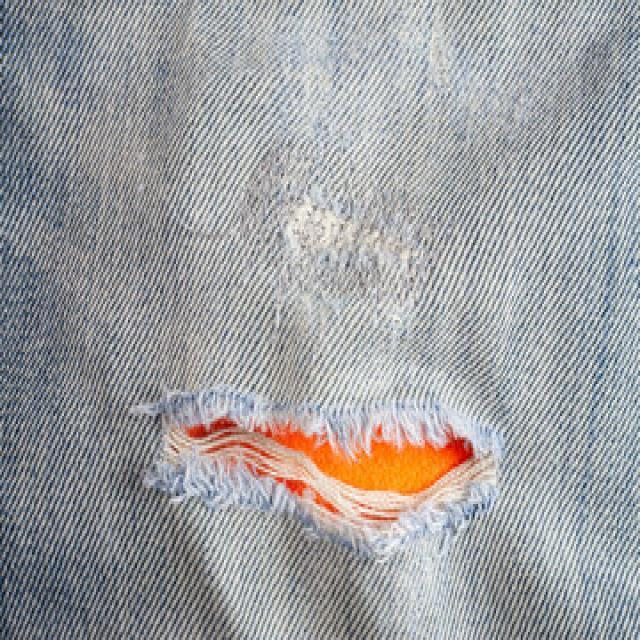Hole: (145, 391, 503, 558), (279, 183, 429, 276)
